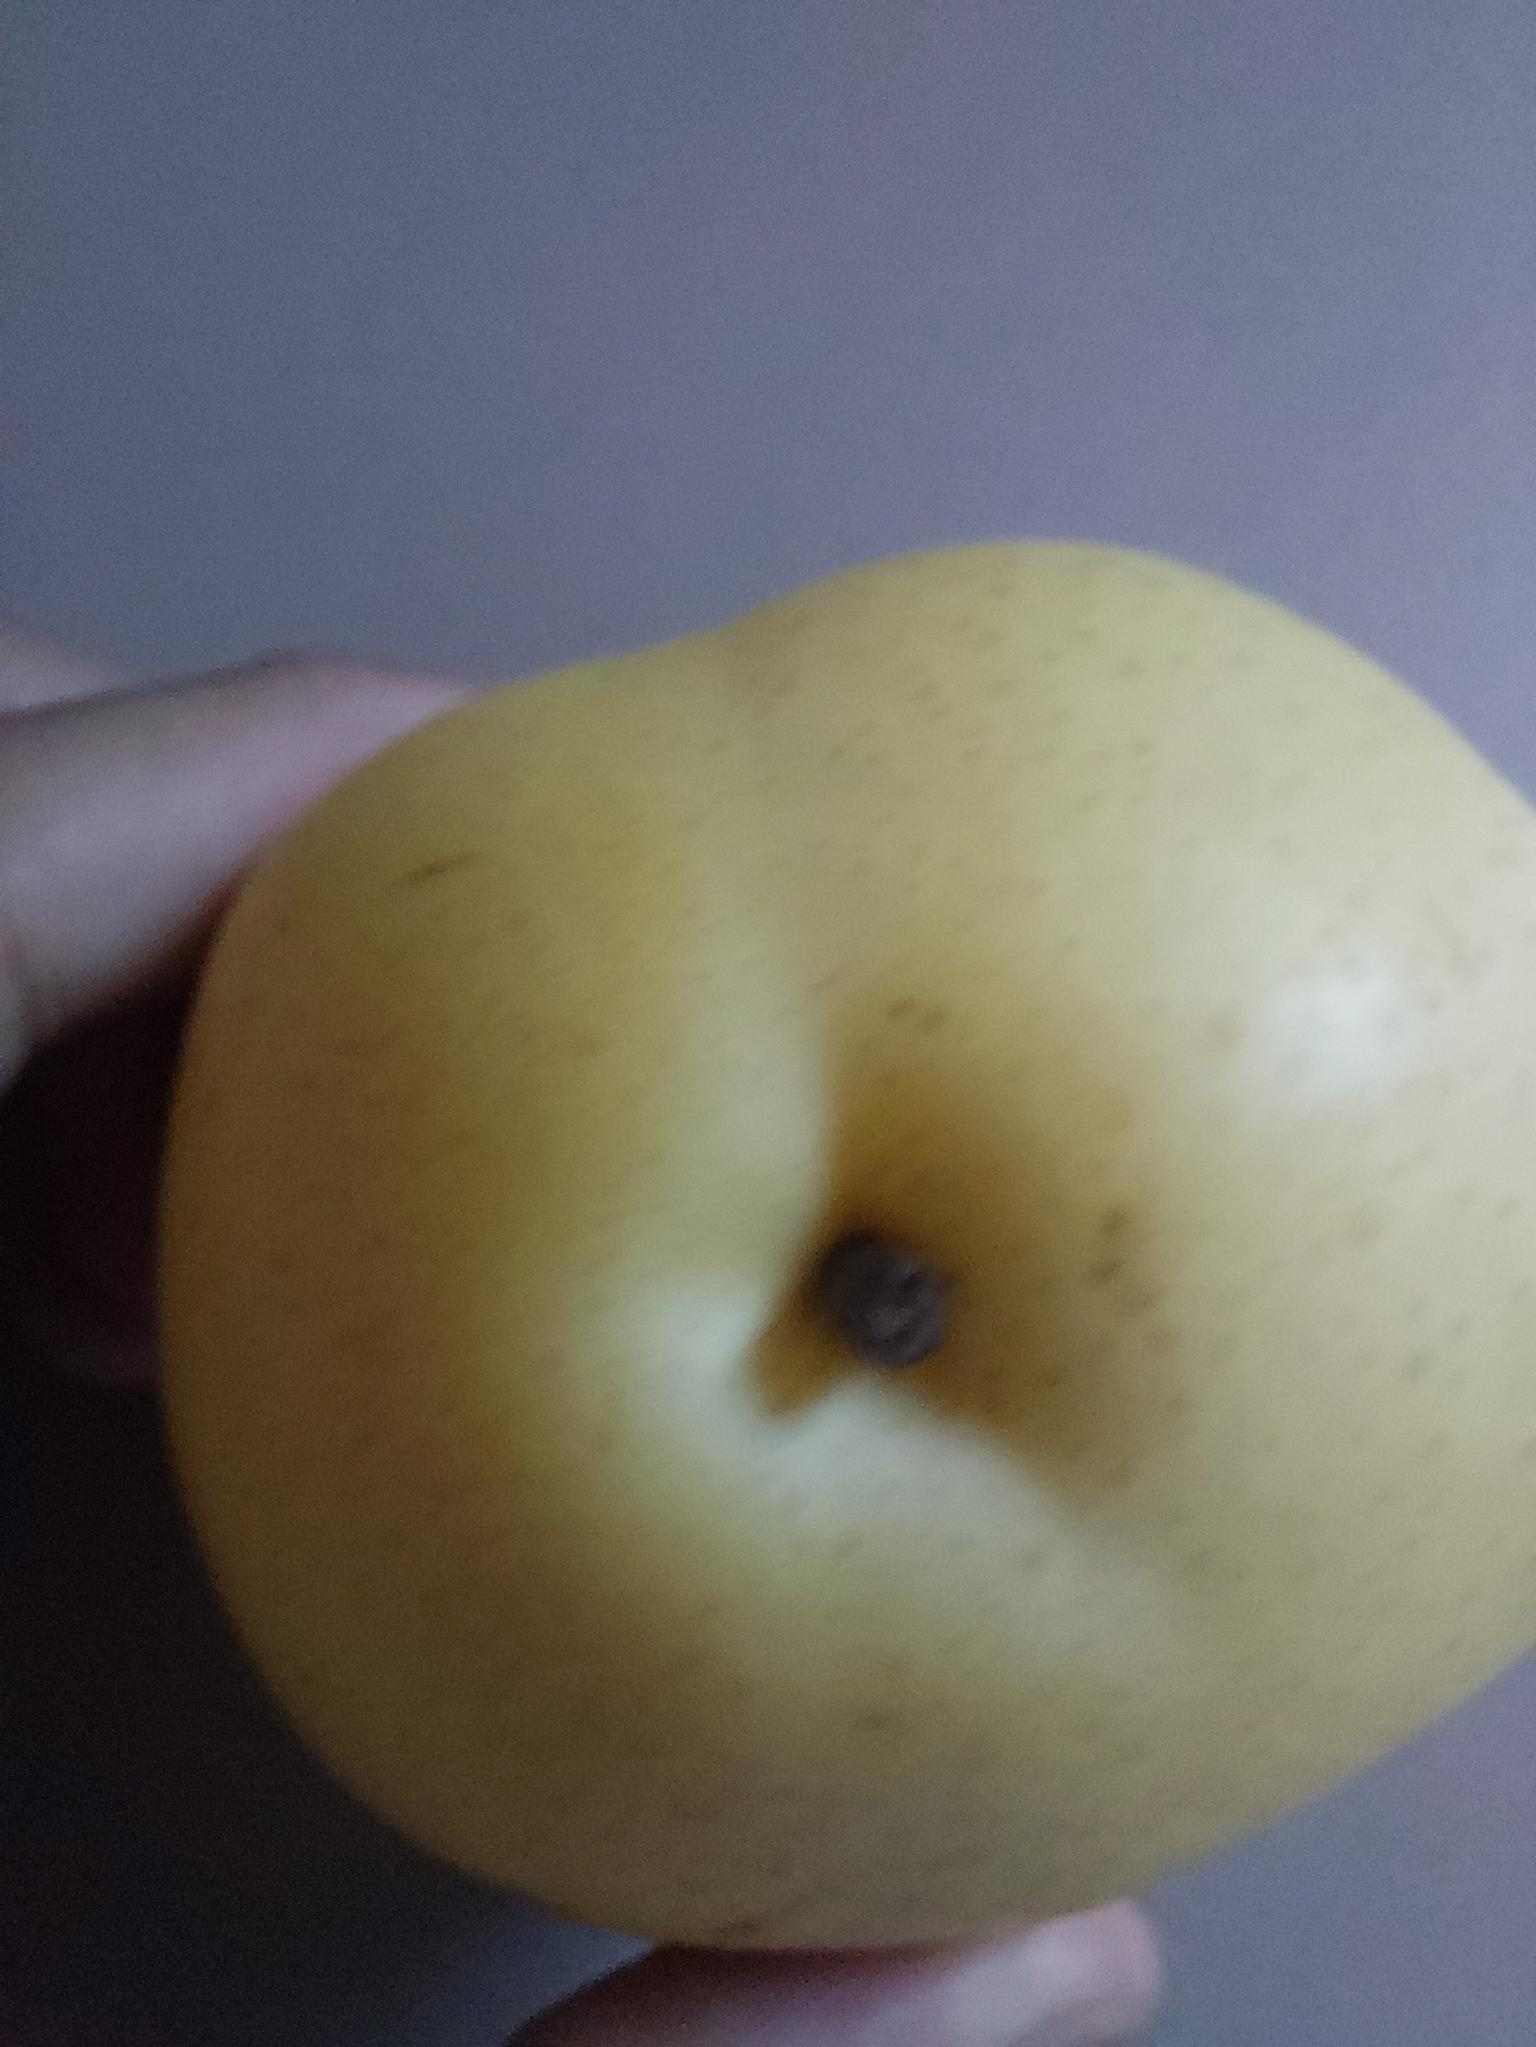Good Pear: (166, 526, 1536, 1958)
